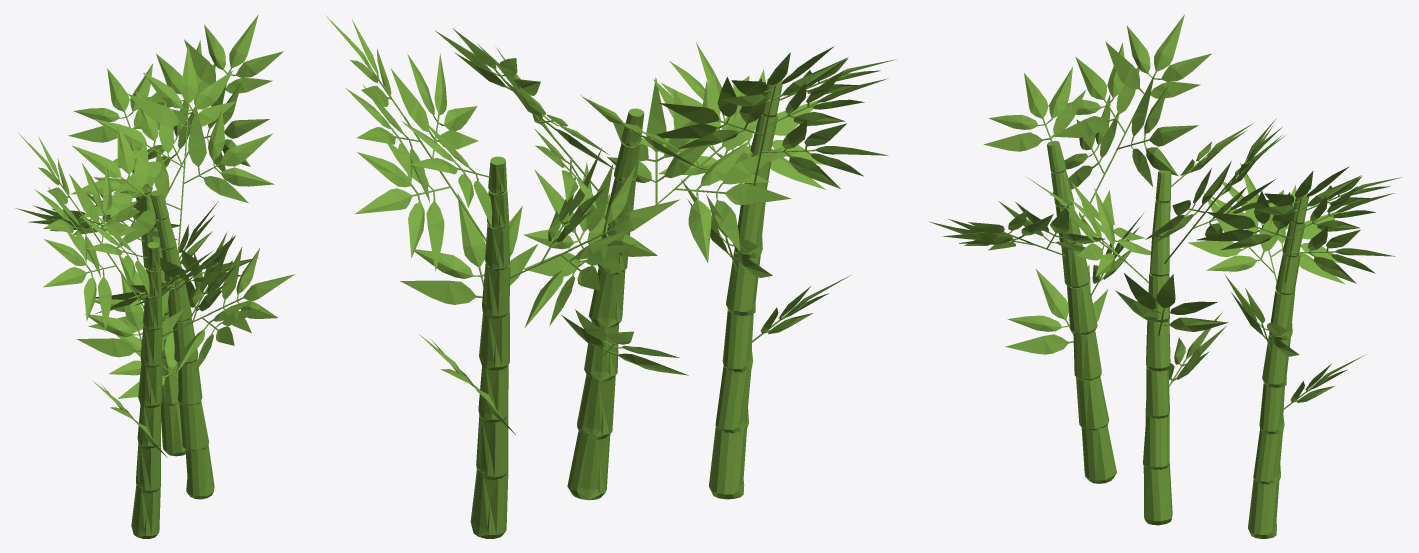
The model's file is bamboo_2.gltf.
The picture shows the model from 3 angles, left to right: view 1: azimuth 30°, elevation 25°; view 2: azimuth 150°, elevation 25°; view 3: azimuth 270°, elevation 25°; orthographic projection. The views are drawn at different scales.
Parts seen in each view (by area): view 1: node_MeshObject-331592576-PolyPaper9, node_MeshObject-331592576-PolyPaper9.002, node_MeshObject-331592576-PolyPaper9.001; view 2: node_MeshObject-331592576-PolyPaper9.001, node_MeshObject-331592576-PolyPaper9, node_MeshObject-331592576-PolyPaper9.002; view 3: node_MeshObject-331592576-PolyPaper9.002, node_MeshObject-331592576-PolyPaper9.001, node_MeshObject-331592576-PolyPaper9.
Boxes of the visible parts, x1,y1,x2,y2 form: node_MeshObject-331592576-PolyPaper9: (70,46,274,499); node_MeshObject-331592576-PolyPaper9.002: (18,133,294,538); node_MeshObject-331592576-PolyPaper9.001: (15,14,283,456); node_MeshObject-331592576-PolyPaper9.001: (325,15,679,538); node_MeshObject-331592576-PolyPaper9: (434,28,796,500); node_MeshObject-331592576-PolyPaper9.002: (640,42,896,499); node_MeshObject-331592576-PolyPaper9.002: (929,14,1211,483); node_MeshObject-331592576-PolyPaper9.001: (1187,162,1401,538); node_MeshObject-331592576-PolyPaper9: (1025,118,1285,525).
Bounding box in the file's own units: 2.49 × 2.84 × 2.93.
